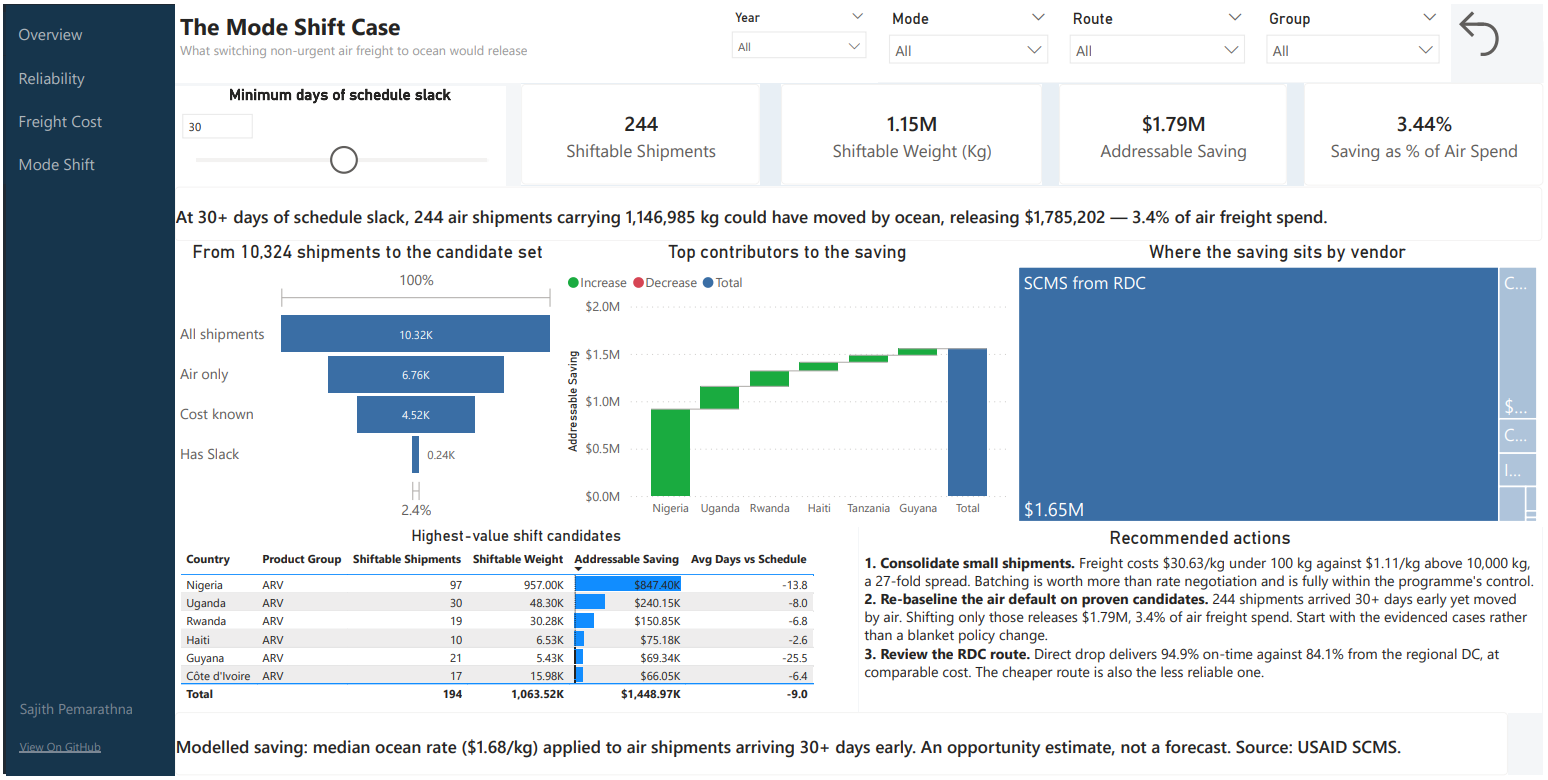

This screenshot's page, from the dashboard's own definition file:
{"tool":"powerbi","page":{"name":"Mode Shift","canvas":[1440,720],"ordinal":3},"visuals":[{"type":"group","id":"g1","title":"Group 2","box":[671.1,0,681.8,73.2],"z":0},{"type":"slicer","fields":{"Values":["dim_date.year"]},"box":[671.1,0,146.3,73.2],"z":0,"group":"g1"},{"type":"cardVisual","fields":{"Data":["_Measures.Shiftable Shipments"]},"box":[483.6,74.4,223.2,94.2],"z":0,"group":"g2"},{"type":"textbox","box":[159.8,0,511,73.2],"z":1000},{"type":"slicer","fields":{"Values":["dim_shipment_mode.Shipment Mode"]},"box":[817.8,0,169.1,72.4],"z":1000,"group":"g1"},{"type":"cardVisual","fields":{"Data":["_Measures.Shiftable Weight"]},"box":[726.1,74.4,244.9,94.2],"z":1000,"group":"g2"},{"type":"slicer","fields":{"Values":["dim_product.Product Group"]},"box":[1171,0,181.9,72.4],"z":2000,"group":"g1"},{"type":"actionButton","box":[1353.4,0,85.1,54.1],"z":2000},{"type":"cardVisual","fields":{"Data":["_Measures.Addressable Saving"]},"box":[987,74.4,213,94.2],"z":2000,"group":"g2"},{"type":"slicer","fields":{"Values":["fact_shipment.fulfil_via"]},"box":[986.9,0,184.1,72],"z":3000,"group":"g1"},{"type":"cardVisual","fields":{"Data":["_Measures.Saving as % of Air Spend"]},"box":[1215.1,73.2,224.2,95.8],"z":3000,"group":"g2"},{"type":"slicer","title":"Minimum days of schedule slack","fields":{"Values":["Slack Threshold.Slack Threshold"]},"box":[158.8,75.6,311,93.9],"z":3000},{"type":"group","id":"g2","title":"Group 1","box":[483.6,73.2,955.7,95.8],"z":4000},{"type":"cardVisual","fields":{"Data":["_Measures.Shift Insight"]},"box":[160.1,169.5,1279.3,51.2],"z":5000},{"type":"funnel","title":"From 10,324 shipments to the candidate set","fields":{"Category":["Funnel Stages.Stage"],"Y":["_Measures.Funnel Value"]},"box":[160.3,221.2,360.6,266.7],"z":6000},{"type":"waterfallChart","title":"Top contributors to the saving","fields":{"Category":["dim_country.Country"],"Y":["_Measures.Addressable Saving"]},"box":[522,220.7,422,267.1],"z":7000},{"type":"treemap","title":"Where the saving sits by vendor","fields":{"Values":["_Measures.Addressable Saving"],"Group":["dim_vendor.Vendor"]},"box":[943.9,220.9,495.5,267.2],"z":8000},{"type":"tableEx","title":"Highest-value shift candidates","fields":{"Values":["dim_country.Country","dim_product.Product Group","_Measures.Shiftable Shipments","_Measures.Shiftable Weight","_Measures.Addressable Saving","_Measures.Avg Days vs Schedule"]},"box":[160.3,488.1,638.8,173.1],"z":9000},{"type":"textbox","title":"Recommended actions","box":[799.7,487.9,637.9,172.7],"z":10000},{"type":"cardVisual","fields":{"Data":["_Measures.Shift Footnote"]},"box":[160.3,660.6,1247,59.1],"z":11000},{"type":"shape","box":[0,0,159.7,719.5],"z":12000},{"type":"actionButton","box":[0,0,160,40],"z":13000},{"type":"actionButton","box":[0,40.2,159.8,40.2],"z":14000},{"type":"actionButton","box":[0,77.9,159.7,40.3],"z":15000},{"type":"actionButton","box":[0,118.2,159.7,39],"z":16000},{"type":"textbox","box":[0,677.6,159.7,41.8],"z":17000},{"type":"textbox","box":[0,634.3,159.7,41.8],"z":18000},{"type":"shape","box":[1.7,0,158.6,720.7],"z":19000},{"type":"actionButton","box":[0,6.9,160.3,39.7],"z":20000},{"type":"actionButton","box":[0,48.3,158.6,39.7],"z":21000},{"type":"actionButton","box":[0,87.9,158.6,39.7],"z":22000},{"type":"actionButton","box":[0,127.6,158.6,39.7],"z":23000},{"type":"textbox","box":[10,678.2,159.7,41.8],"z":24000},{"type":"textbox","box":[10,644.3,159.7,41.8],"z":25000}]}

Visuals, with their boxes on the page's 1440x720 design canvas (x1, y1, x2, y2). These are canvas units, not pixel positions in the 1548x780 screenshot, which may show the page scaled, cropped or inside an application window:
"Group 2" group: <box>671,0,1353,73</box>
slicer - dim_date.year: <box>671,0,817,73</box>
cardVisual - _Measures.Shiftable Shipments: <box>484,74,707,169</box>
textbox: <box>160,0,671,73</box>
slicer - dim_shipment_mode.Shipment Mode: <box>818,0,987,72</box>
cardVisual - _Measures.Shiftable Weight: <box>726,74,971,169</box>
slicer - dim_product.Product Group: <box>1171,0,1353,72</box>
actionButton: <box>1353,0,1438,54</box>
cardVisual - _Measures.Addressable Saving: <box>987,74,1200,169</box>
slicer - fact_shipment.fulfil_via: <box>987,0,1171,72</box>
cardVisual - _Measures.Saving as % of Air Spend: <box>1215,73,1439,169</box>
"Minimum days of schedule slack" slicer: <box>159,76,470,170</box>
"Group 1" group: <box>484,73,1439,169</box>
cardVisual - _Measures.Shift Insight: <box>160,170,1439,221</box>
"From 10,324 shipments to the candidate set" funnel: <box>160,221,521,488</box>
"Top contributors to the saving" waterfallChart: <box>522,221,944,488</box>
"Where the saving sits by vendor" treemap: <box>944,221,1439,488</box>
"Highest-value shift candidates" tableEx: <box>160,488,799,661</box>
"Recommended actions" textbox: <box>800,488,1438,661</box>
cardVisual - _Measures.Shift Footnote: <box>160,661,1407,720</box>
shape: <box>0,0,160,720</box>
actionButton: <box>0,0,160,40</box>
actionButton: <box>0,40,160,80</box>
actionButton: <box>0,78,160,118</box>
actionButton: <box>0,118,160,157</box>
textbox: <box>0,678,160,719</box>
textbox: <box>0,634,160,676</box>
shape: <box>2,0,160,721</box>
actionButton: <box>0,7,160,47</box>
actionButton: <box>0,48,159,88</box>
actionButton: <box>0,88,159,128</box>
actionButton: <box>0,128,159,167</box>
textbox: <box>10,678,170,720</box>
textbox: <box>10,644,170,686</box>
